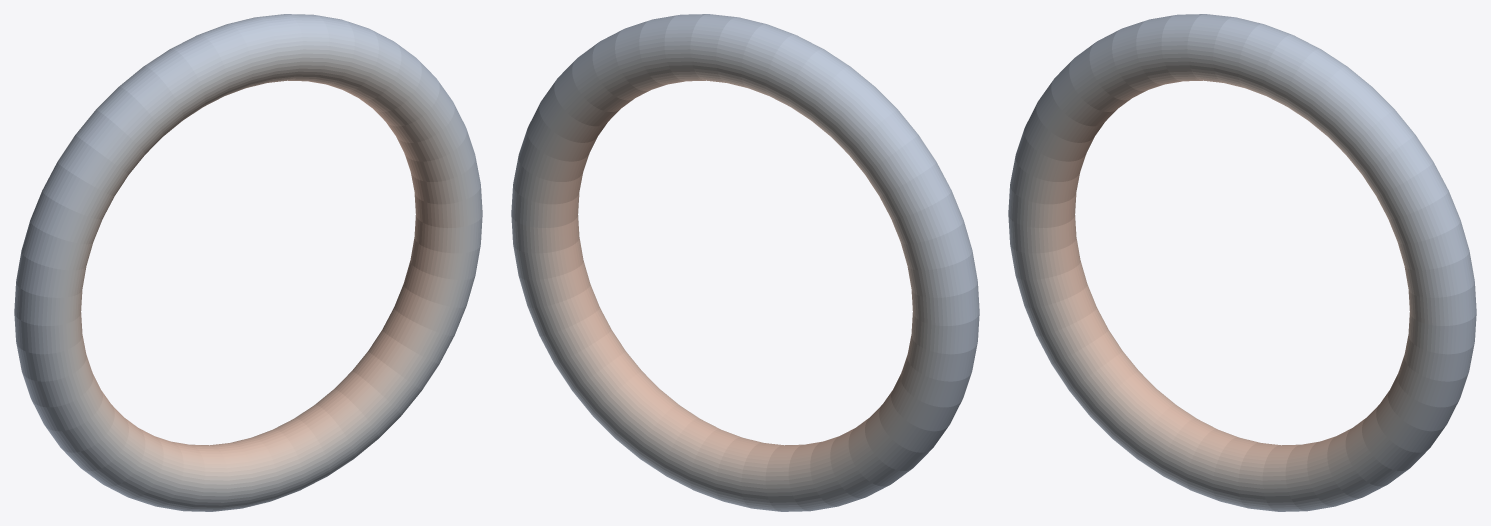
The picture shows the model from 3 angles, left to right: view 1: azimuth 30°, elevation 25°; view 2: azimuth 150°, elevation 25°; view 3: azimuth 330°, elevation 25°; orthographic projection.
Parts seen in each view (by area): view 1: world; view 2: world; view 3: world.
Boxes of the visible parts, x1,y1,x2,y2 form: world: (14,14,482,511); world: (511,14,979,511); world: (1008,14,1476,511).
Bounding box in the file's own units: 32.8 × 32.74 × 4.13.
